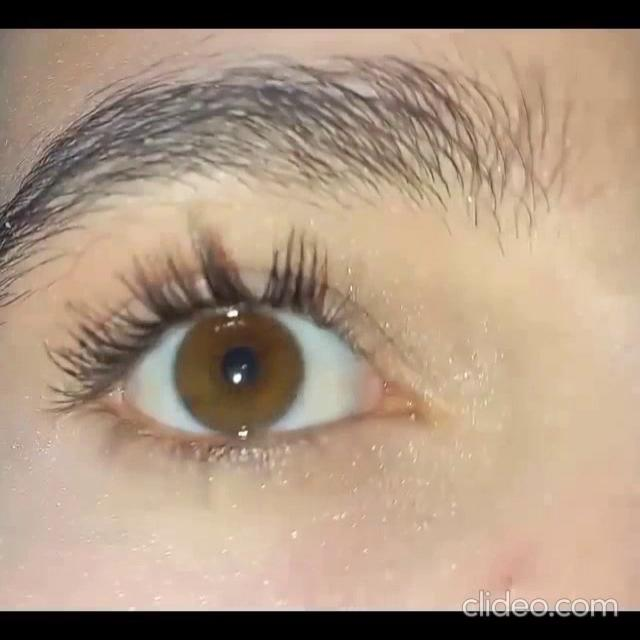iris: (175, 311, 304, 433)
pupille: (213, 343, 264, 388)
